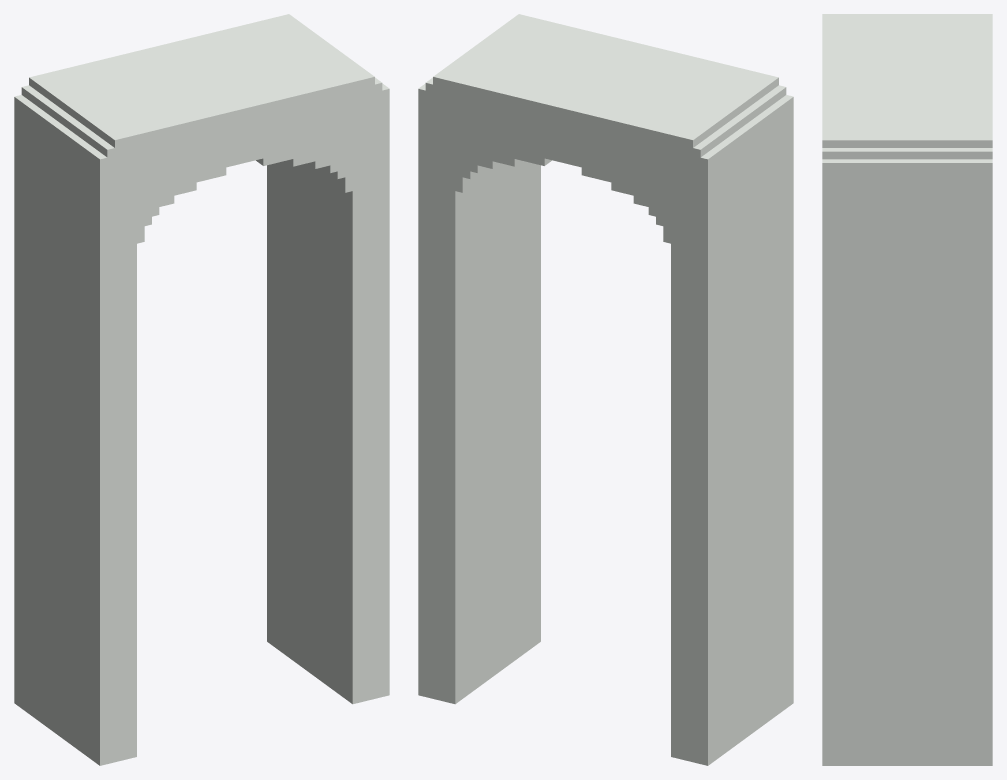
Rendered from Arch.obj.
3 views of the same model, side by side, from view 1: azimuth 30°, elevation 25°; view 2: azimuth 150°, elevation 25°; view 3: azimuth 270°, elevation 25° (orthographic).
Size of the model in its own units: 3.9 by 8 by 2.
1 material, 1 textured.
